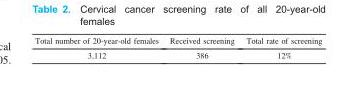table: (34, 34, 321, 59)
table column: (34, 34, 163, 59), (239, 34, 321, 59), (163, 34, 239, 59)
table column header: (34, 34, 321, 47)
table row: (34, 34, 321, 47), (34, 47, 321, 59)
